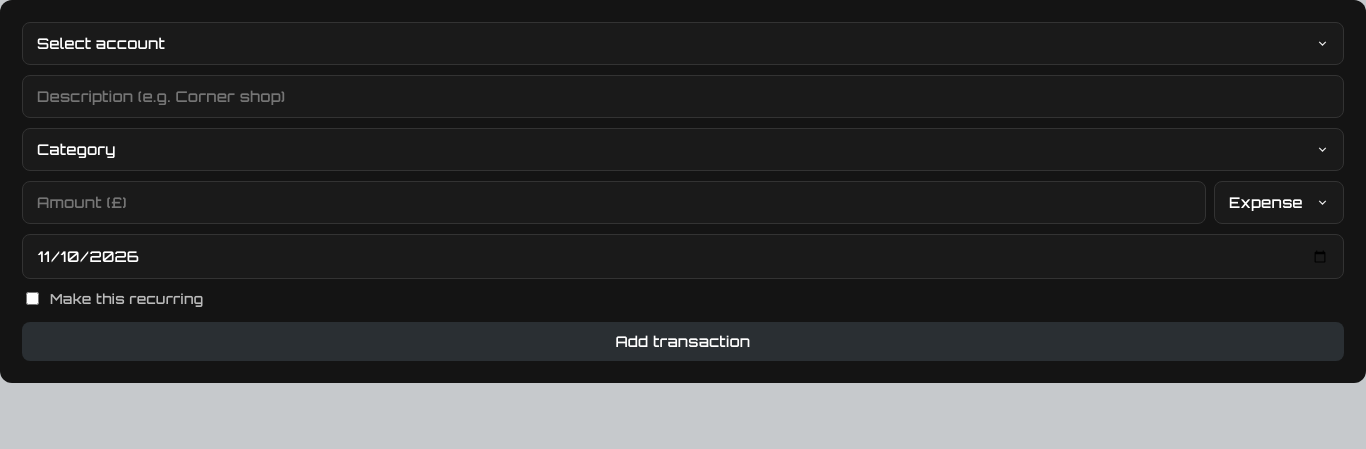
Test: TransactionForm validation › offers a frequency only when "Make this recurring" is ticked
Expected: the field labelled "How often" is not shown
Click the checkbox labelled "Make this recurring" at (32, 298), box [26, 292, 39, 305]
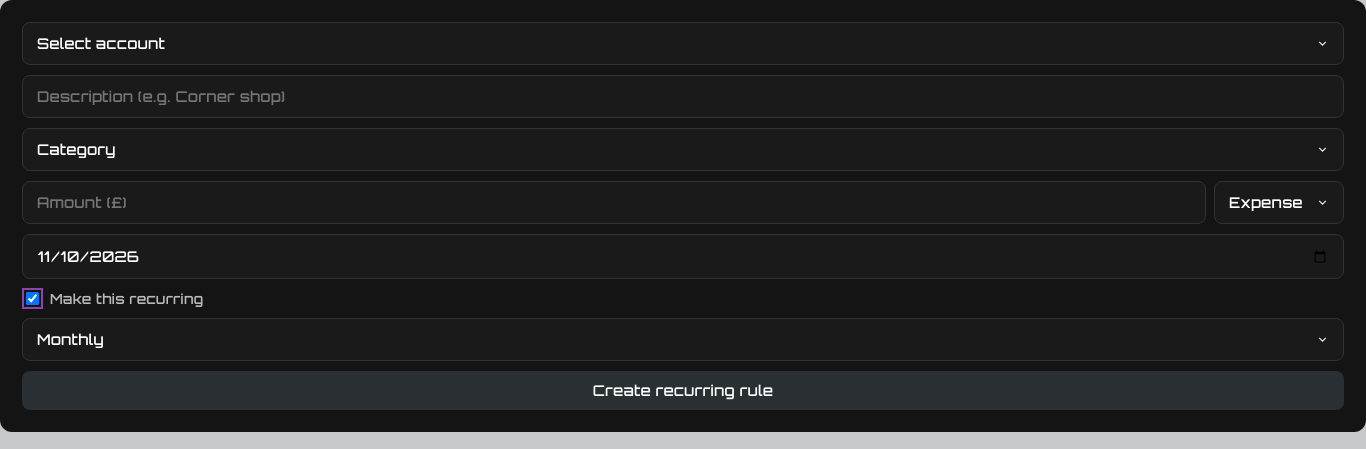
Expected: the 4th dropdown named "How often" shows "Monthly", [22, 318, 1344, 361]
Expected: the button "Create recurring rule" is shown, [22, 371, 1344, 410]
